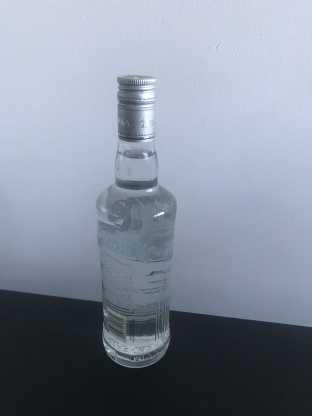nakretka: (114, 72, 158, 143)
